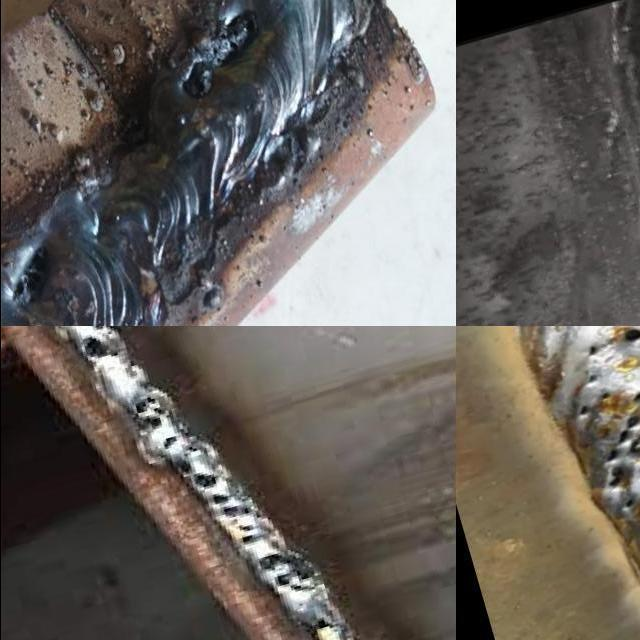defect: (186, 9, 262, 99), (8, 236, 50, 310), (255, 549, 318, 594), (208, 491, 258, 547), (125, 391, 179, 434), (172, 458, 221, 496), (80, 335, 125, 363), (615, 326, 640, 355), (312, 616, 341, 634), (158, 433, 182, 452), (581, 342, 606, 358), (577, 403, 592, 417), (584, 373, 601, 384), (597, 391, 612, 401)
